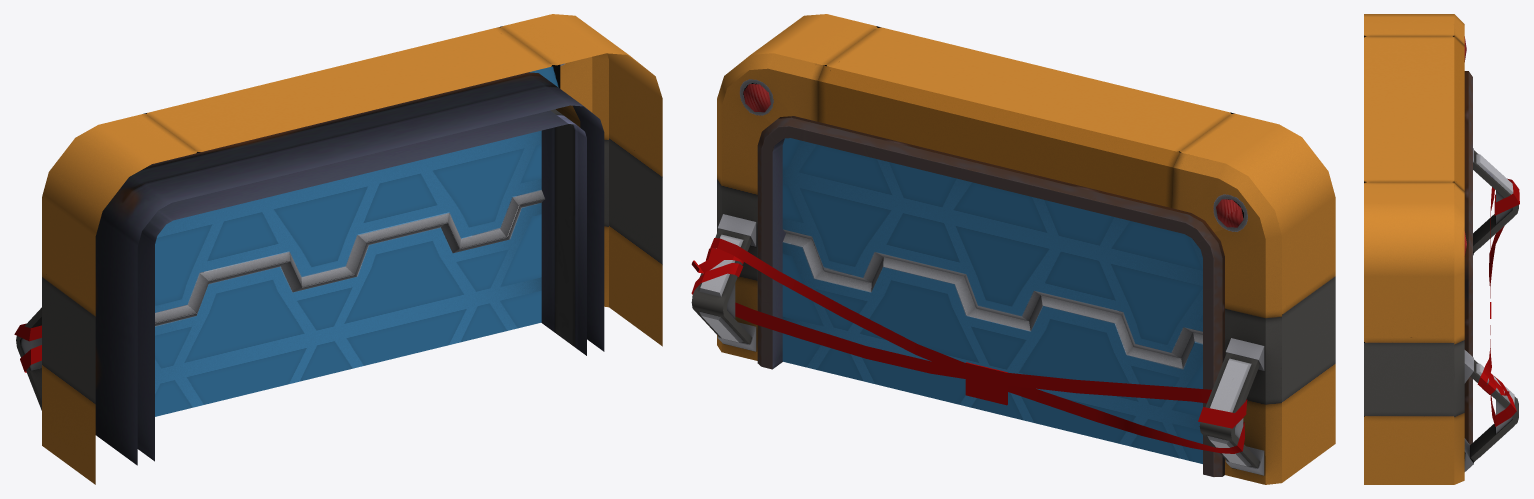
The model's file is env_building_warehouse01gate_lod1.fbx.
The picture shows the model from 3 angles, left to right: view 1: azimuth 30°, elevation 25°; view 2: azimuth 150°, elevation 25°; view 3: azimuth 270°, elevation 25°; orthographic projection. The views are drawn at different scales.
Visible parts, largest first — view 1: polySurface1259; view 2: polySurface1259; view 3: polySurface1259.
Boxes of the visible parts, x1=… form: polySurface1259: x1=14, y1=14, x2=662, y2=484; polySurface1259: x1=691, y1=14, x2=1335, y2=484; polySurface1259: x1=1364, y1=14, x2=1519, y2=484.
Size of the model in its own units: 55.06 by 28.49 by 15.59.
